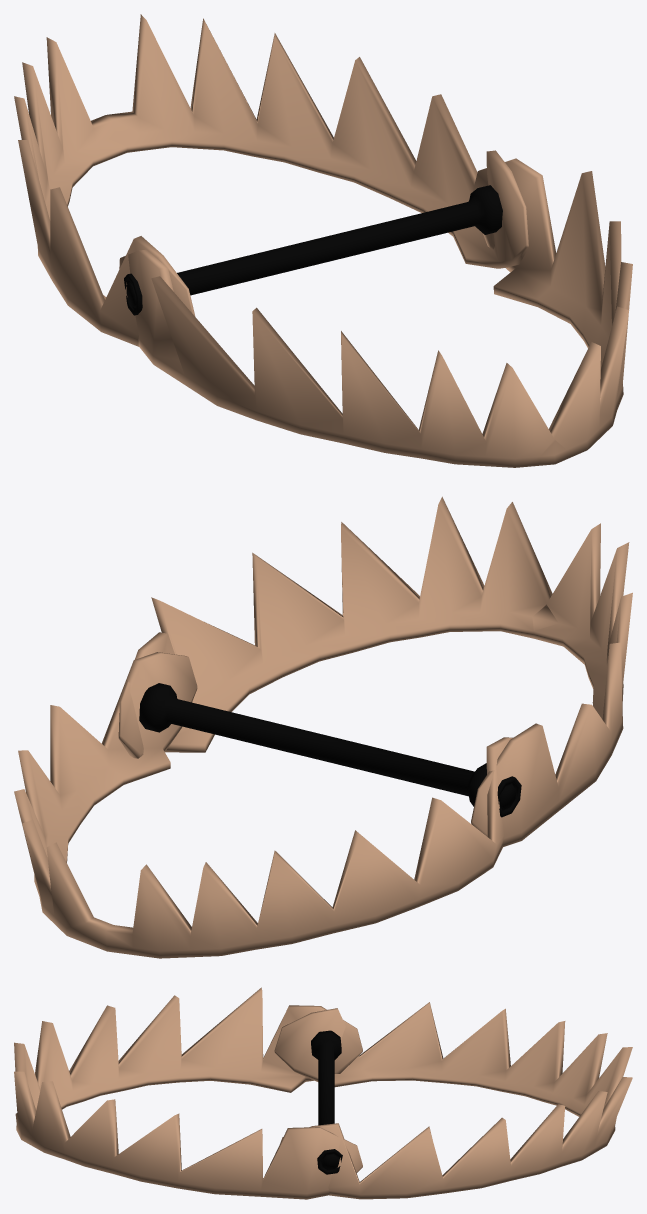
Rendered from Piege1.fbx.
3 renders of one model, top to bottom at view 1: azimuth 30°, elevation 25°; view 2: azimuth 150°, elevation 25°; view 3: azimuth 270°, elevation 25°, orthographic. The views are drawn at different scales.
Parts seen in each view (by area): view 1: MSH_Piege_inf, MSH_Piege_sup; view 2: MSH_Piege_sup, MSH_Piege_inf; view 3: MSH_Piege_sup, MSH_Piege_inf.
Boxes of the visible parts, left/top/right/bottom form: MSH_Piege_inf: left=14, top=14, right=528, bottom=346; MSH_Piege_sup: left=119, top=158, right=632, bottom=467; MSH_Piege_sup: left=118, top=496, right=632, bottom=846; MSH_Piege_inf: left=14, top=652, right=521, bottom=958; MSH_Piege_sup: left=14, top=987, right=362, bottom=1199; MSH_Piege_inf: left=274, top=1002, right=632, bottom=1199.
Bounding box in the file's own units: 76.22 × 21.9 × 139.
